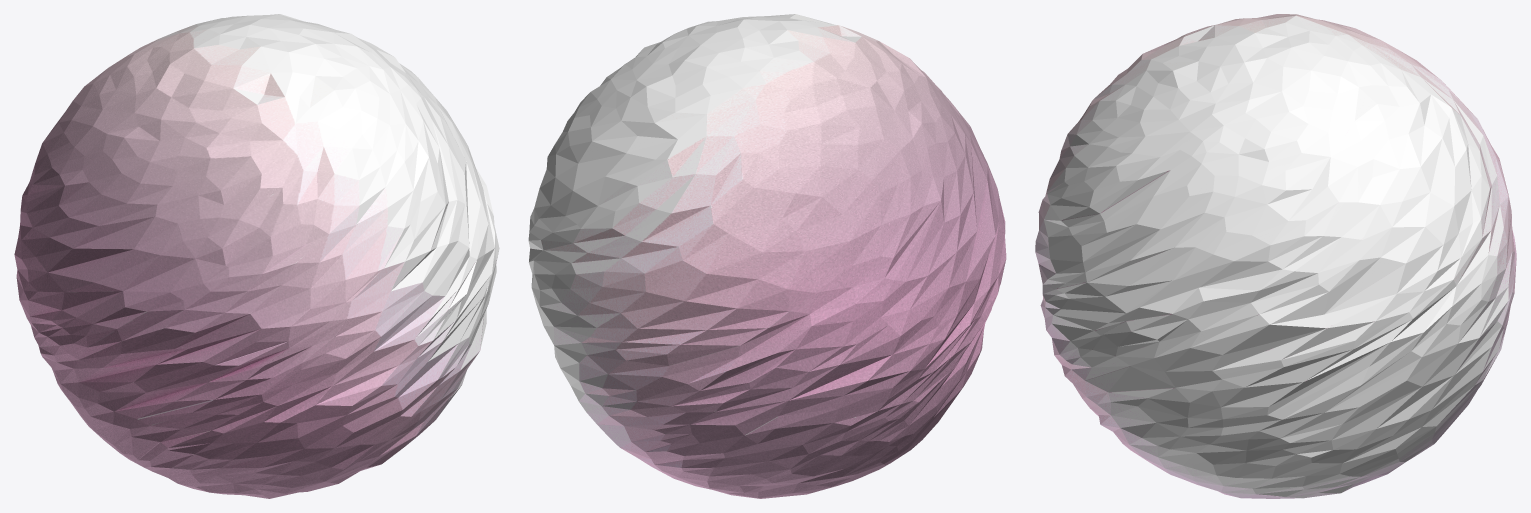
The model's file is ring1-2.fbx.
3 views of the same model, side by side, from view 1: azimuth 30°, elevation 25°; view 2: azimuth 150°, elevation 25°; view 3: azimuth 270°, elevation 25° (orthographic).
Parts seen in each view (by area): view 1: ring1; view 2: ring1; view 3: ring1.
Boxes of the visible parts, <box> form: ring1: <box>14,14,499,498</box>; ring1: <box>528,14,1006,498</box>; ring1: <box>1035,14,1516,498</box>.
Bounding box in the file's own units: 195 × 198 × 196.
